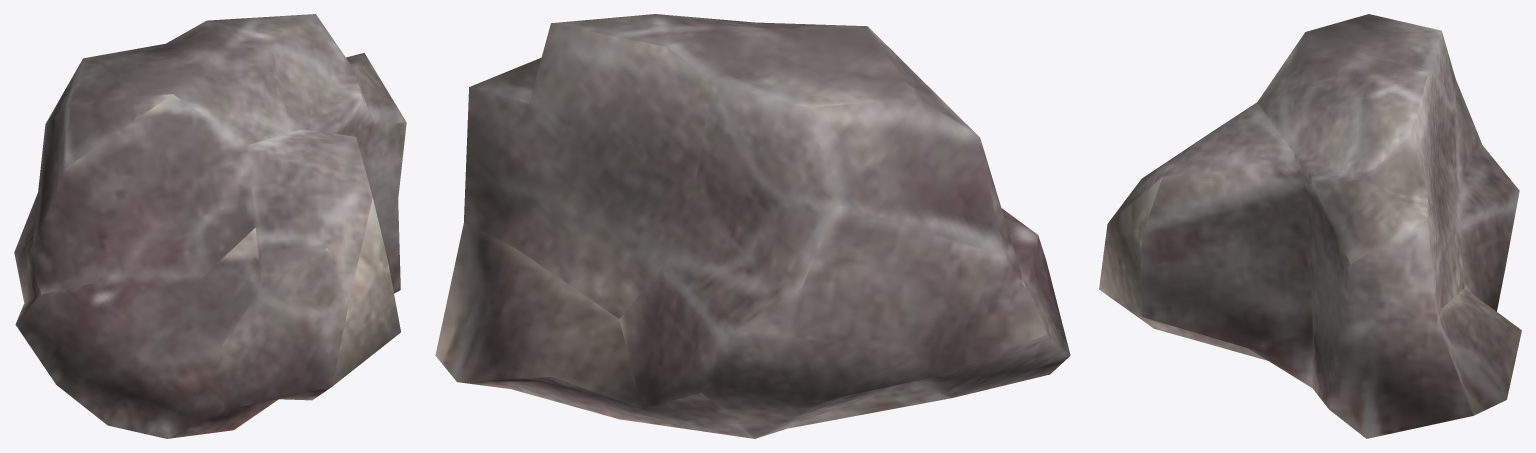
File: Q_Limestone_10.fbx
The picture shows the model from 3 angles, left to right: view 1: azimuth 30°, elevation 25°; view 2: azimuth 150°, elevation 25°; view 3: azimuth 270°, elevation 25°; orthographic projection. The views are drawn at different scales.
Visible parts, largest first — view 1: Aset_stone_rough_S_udmhajrva_00_LOD6; view 2: Aset_stone_rough_S_udmhajrva_00_LOD6; view 3: Aset_stone_rough_S_udmhajrva_00_LOD6.
Part boxes in pixels (box(x1,y1,x2,y2)): Aset_stone_rough_S_udmhajrva_00_LOD6: box(14, 14, 406, 438); Aset_stone_rough_S_udmhajrva_00_LOD6: box(435, 14, 1070, 438); Aset_stone_rough_S_udmhajrva_00_LOD6: box(1099, 14, 1521, 438).
Bounding box in the file's own units: 30.5 × 20.94 × 27.49.
1 material, 1 textured.
